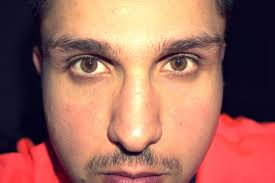middle_eastern_male: (34, 4, 227, 183)
